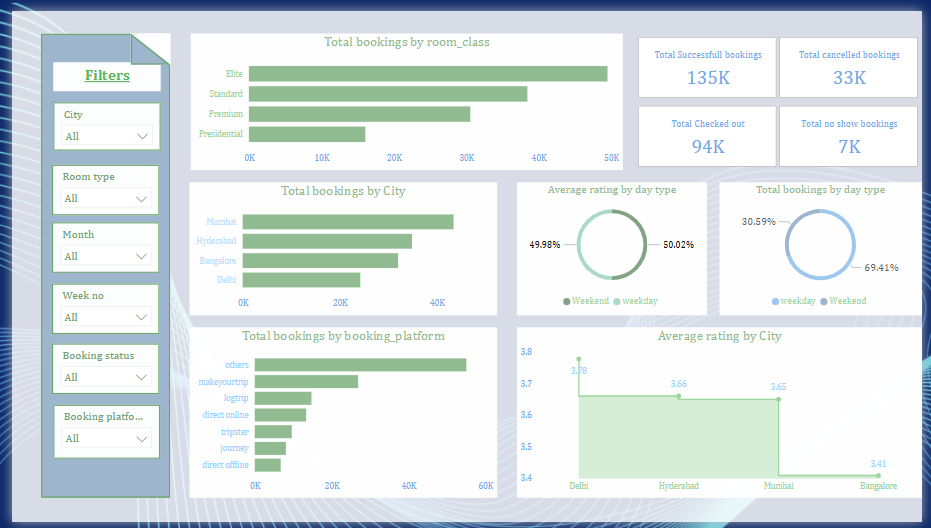

The page's visual inventory and layout, read from the dashboard file:
{"tool":"powerbi","page":{"name":"Bookings","canvas":[1280,720],"ordinal":1},"visuals":[{"type":"shape","box":[40.5,32.2,182.4,653.2],"z":0},{"type":"donutChart","fields":{"Y":["dim_date.Total bookings"],"Category":["dim_date.day type"]},"box":[996.1,240.3,284.4,187],"z":1000},{"type":"textbox","box":[57.2,72.7,151.4,40.5],"z":2000},{"type":"slicer","fields":{"Values":["dim_hotels.City"]},"box":[57.2,128.7,151.4,67.9],"z":3000},{"type":"slicer","fields":{"Values":["dim_rooms.room_class"]},"box":[56,215.8,151.4,71.5],"z":4000},{"type":"slicer","fields":{"Values":["fact_bookings.checkout_date.Variation.Date Hierarchy.Month"]},"box":[56,298,151.4,71.5],"z":5000},{"type":"slicer","fields":{"Values":["dim_date.week no"]},"box":[56,382.6,151.4,71.5],"z":6000},{"type":"slicer","fields":{"Values":["fact_bookings.booking_platform"]},"box":[57.2,554.3,150.2,76.3],"z":7000},{"type":"slicer","fields":{"Values":["fact_bookings.booking_status"]},"box":[56,467.3,151.4,71.5],"z":8000},{"type":"donutChart","fields":{"Y":["dim_date.Average rating"],"Category":["dim_date.day type"]},"box":[710.4,240.3,267.5,187],"z":9000},{"type":"clusteredBarChart","fields":{"Y":["dim_date.Total bookings"],"Category":["fact_bookings.booking_platform"]},"box":[249.4,444.2,432.5,240.3],"z":10000},{"type":"clusteredBarChart","fields":{"Y":["dim_date.Total bookings"],"Category":["dim_hotels.City"]},"box":[249.4,241.6,432.5,187],"z":11000},{"type":"clusteredBarChart","fields":{"Y":["dim_date.Total bookings"],"Category":["dim_rooms.room_class"]},"box":[250.6,32.5,607.8,192.2],"z":12000},{"type":"lineChart","fields":{"Category":["dim_hotels.City"],"Y":["dim_date.Average rating"]},"box":[710.4,444.2,570.1,240.3],"z":13000},{"type":"cardVisual","fields":{"Data":["dim_date.Total Successfull bookings"]},"box":[875.3,32.5,205.2,96.1],"z":14000},{"type":"cardVisual","fields":{"Data":["dim_date.Total cancelled bookings"]},"box":[1075.3,32.5,205.2,96.1],"z":15000},{"type":"cardVisual","fields":{"Data":["dim_date.Total Checked out"]},"box":[875.3,128.6,205.2,96.1],"z":16000},{"type":"cardVisual","fields":{"Data":["dim_date.Total no show bookings"]},"box":[1075.3,128.6,205.2,96.1],"z":17000},{"type":"shape","box":[166.9,32.2,56,44.1],"z":18000}]}

Visuals, with their boxes in screenshot pixels (x1, y1, x2, y2), scaled from the page's 1280x720 canvas onto the 931x528 screenshot:
shape: [left=29, top=24, right=162, bottom=503]
donutChart - dim_date.Total bookings x dim_date.day type: [left=725, top=176, right=930, bottom=313]
textbox: [left=42, top=53, right=152, bottom=83]
slicer - dim_hotels.City: [left=42, top=94, right=152, bottom=144]
slicer - dim_rooms.room_class: [left=41, top=158, right=151, bottom=211]
slicer - fact_bookings.checkout_date.Variation.Date Hierarchy.Month: [left=41, top=219, right=151, bottom=271]
slicer - dim_date.week no: [left=41, top=281, right=151, bottom=333]
slicer - fact_bookings.booking_platform: [left=42, top=406, right=151, bottom=462]
slicer - fact_bookings.booking_status: [left=41, top=343, right=151, bottom=395]
donutChart - dim_date.Average rating x dim_date.day type: [left=517, top=176, right=711, bottom=313]
clusteredBarChart - dim_date.Total bookings x fact_bookings.booking_platform: [left=181, top=326, right=496, bottom=502]
clusteredBarChart - dim_date.Total bookings x dim_hotels.City: [left=181, top=177, right=496, bottom=314]
clusteredBarChart - dim_date.Total bookings x dim_rooms.room_class: [left=182, top=24, right=624, bottom=165]
lineChart - dim_hotels.City x dim_date.Average rating: [left=517, top=326, right=930, bottom=502]
cardVisual - dim_date.Total Successfull bookings: [left=637, top=24, right=786, bottom=94]
cardVisual - dim_date.Total cancelled bookings: [left=782, top=24, right=930, bottom=94]
cardVisual - dim_date.Total Checked out: [left=637, top=94, right=786, bottom=165]
cardVisual - dim_date.Total no show bookings: [left=782, top=94, right=930, bottom=165]
shape: [left=121, top=24, right=162, bottom=56]
